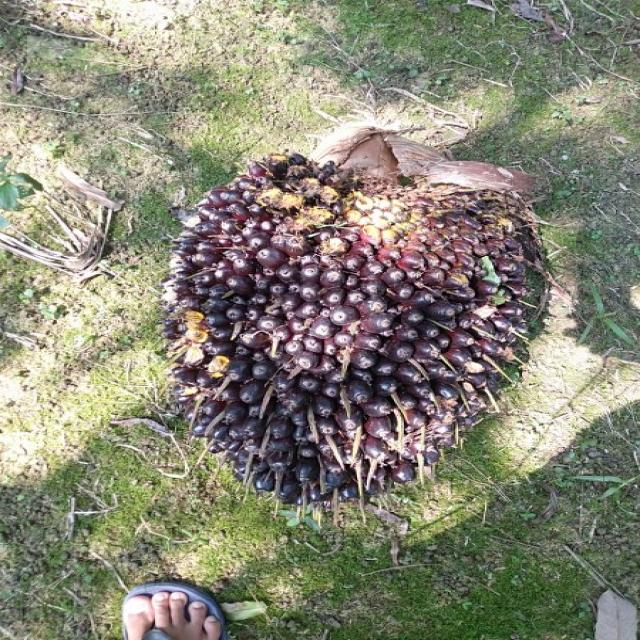fraksi 00: (156, 152, 554, 513)
